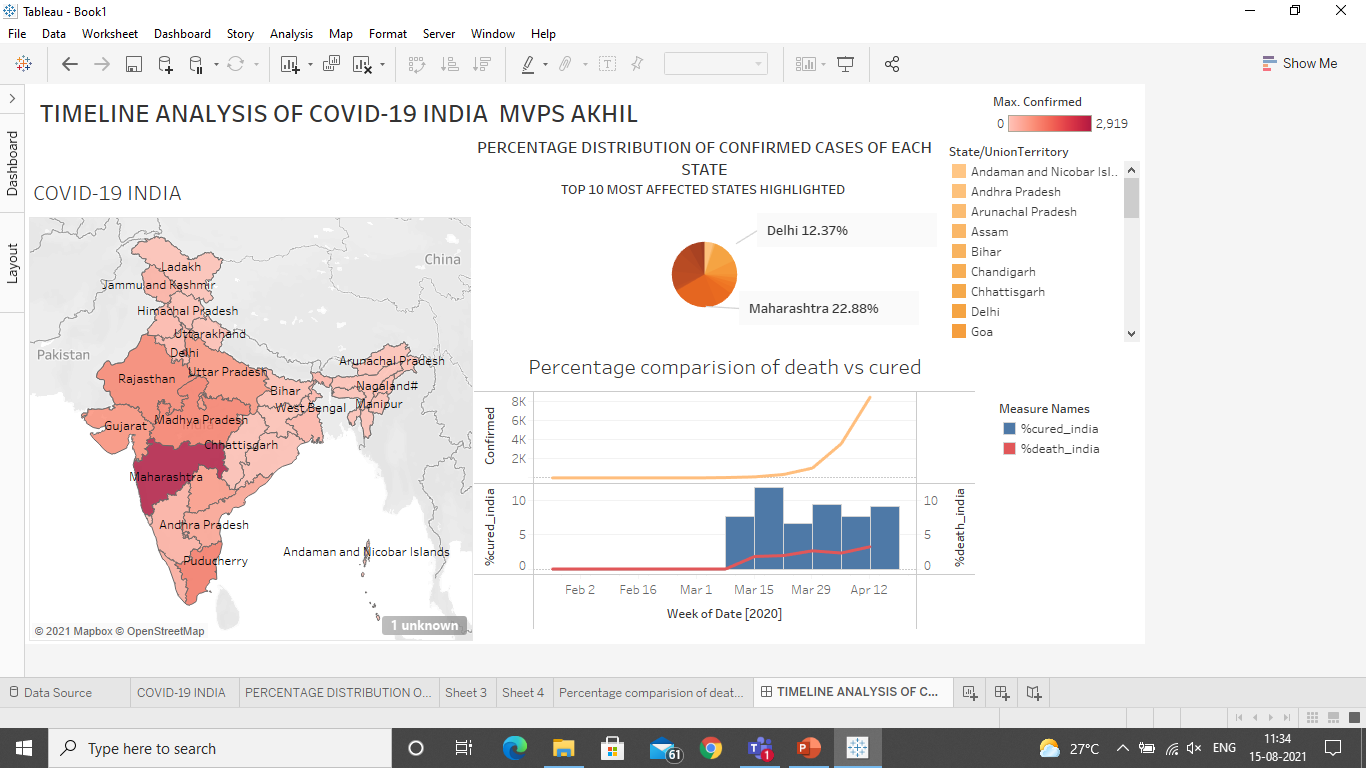

The page's visual inventory and layout, read from the dashboard file:
{"tool":"tableau","page":{"name":"TIMELINE ANALYSIS OF COVID-19 INDIA  MVPS AKHIL","canvas":[1120,560],"ordinal":0},"visuals":[{"type":"worksheet","box":[0,0,1120,560]},{"type":"worksheet","param":"vert","box":[8,8,1104,544]},{"type":"worksheet","box":[8,8,1104,41]},{"type":"worksheet","title":"COVID-19 INDIA ","mark":"Automatic","param":"[federated.0r1brih0nw90l518pgohs08p0dq8].[max:Confirmed:qk]","box":[968,9,140,76]},{"type":"worksheet","title":"PERCENTAGE DISTRIBUTION OF CONFIRMED CASES OF EACH STATE","mark":"Pie","box":[446,48,467,208]},{"type":"worksheet","box":[8,49,1104,503]},{"type":"worksheet","title":"PERCENTAGE DISTRIBUTION OF CONFIRMED CASES OF EACH STATE","mark":"Pie","param":"[federated.0r1brih0nw90l518pgohs08p0dq8].[none:State/UnionTerritory:nk]","box":[924,59,193,199]},{"type":"worksheet","title":"COVID-19 INDIA ","mark":"Automatic","box":[4,90,444,467]},{"type":"worksheet","title":"Percentage comparision of death vs cured","mark":"Automatic","rows":["Confirmed","Calculation_823314313498685441","Calculation_823314313499025410"],"cols":["Date"],"box":[449,264,502,282]},{"type":"worksheet","title":"Percentage comparision of death vs cured","mark":"Automatic","rows":["Confirmed","Calculation_823314313498685441","Calculation_823314313499025410"],"cols":["Date"],"param":"[federated.0r1brih0nw90l518pgohs08p0dq8].[:Measure Names]","box":[974,316,140,58]}]}

Visuals, with their boxes on the page's 1120x560 design canvas (x1, y1, x2, y2). These are canvas units, not pixel positions in the 1366x768 screenshot, which may show the page scaled, cropped or inside an application window:
worksheet: (0,0,1120,560)
worksheet: (8,8,1112,552)
worksheet: (8,8,1112,49)
"COVID-19 INDIA " worksheet: (968,9,1108,85)
"PERCENTAGE DISTRIBUTION OF CONFIRMED CASES OF EACH STATE" worksheet (Pie marks): (446,48,913,256)
worksheet: (8,49,1112,552)
"PERCENTAGE DISTRIBUTION OF CONFIRMED CASES OF EACH STATE" worksheet (Pie marks): (924,59,1117,258)
"COVID-19 INDIA " worksheet: (4,90,448,557)
"Percentage comparision of death vs cured" worksheet: (449,264,951,546)
"Percentage comparision of death vs cured" worksheet: (974,316,1114,374)
